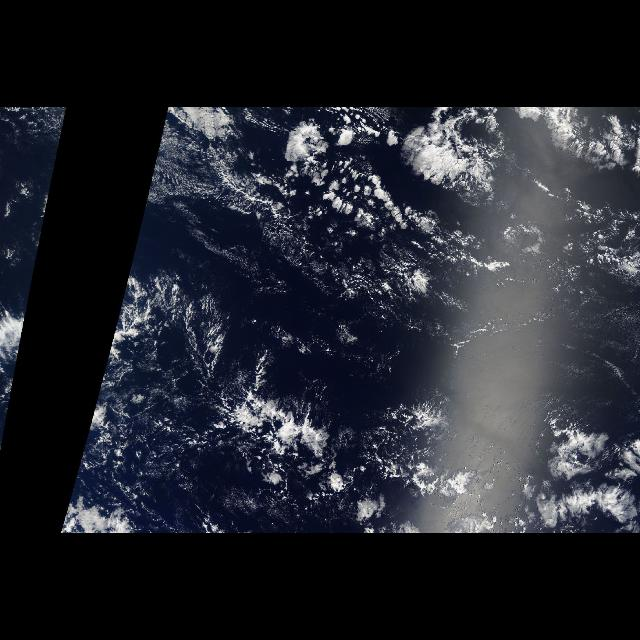Fish: (196, 366, 372, 479)
Flower: (172, 107, 548, 273), (489, 398, 639, 530)
Gravel: (137, 127, 588, 529)
